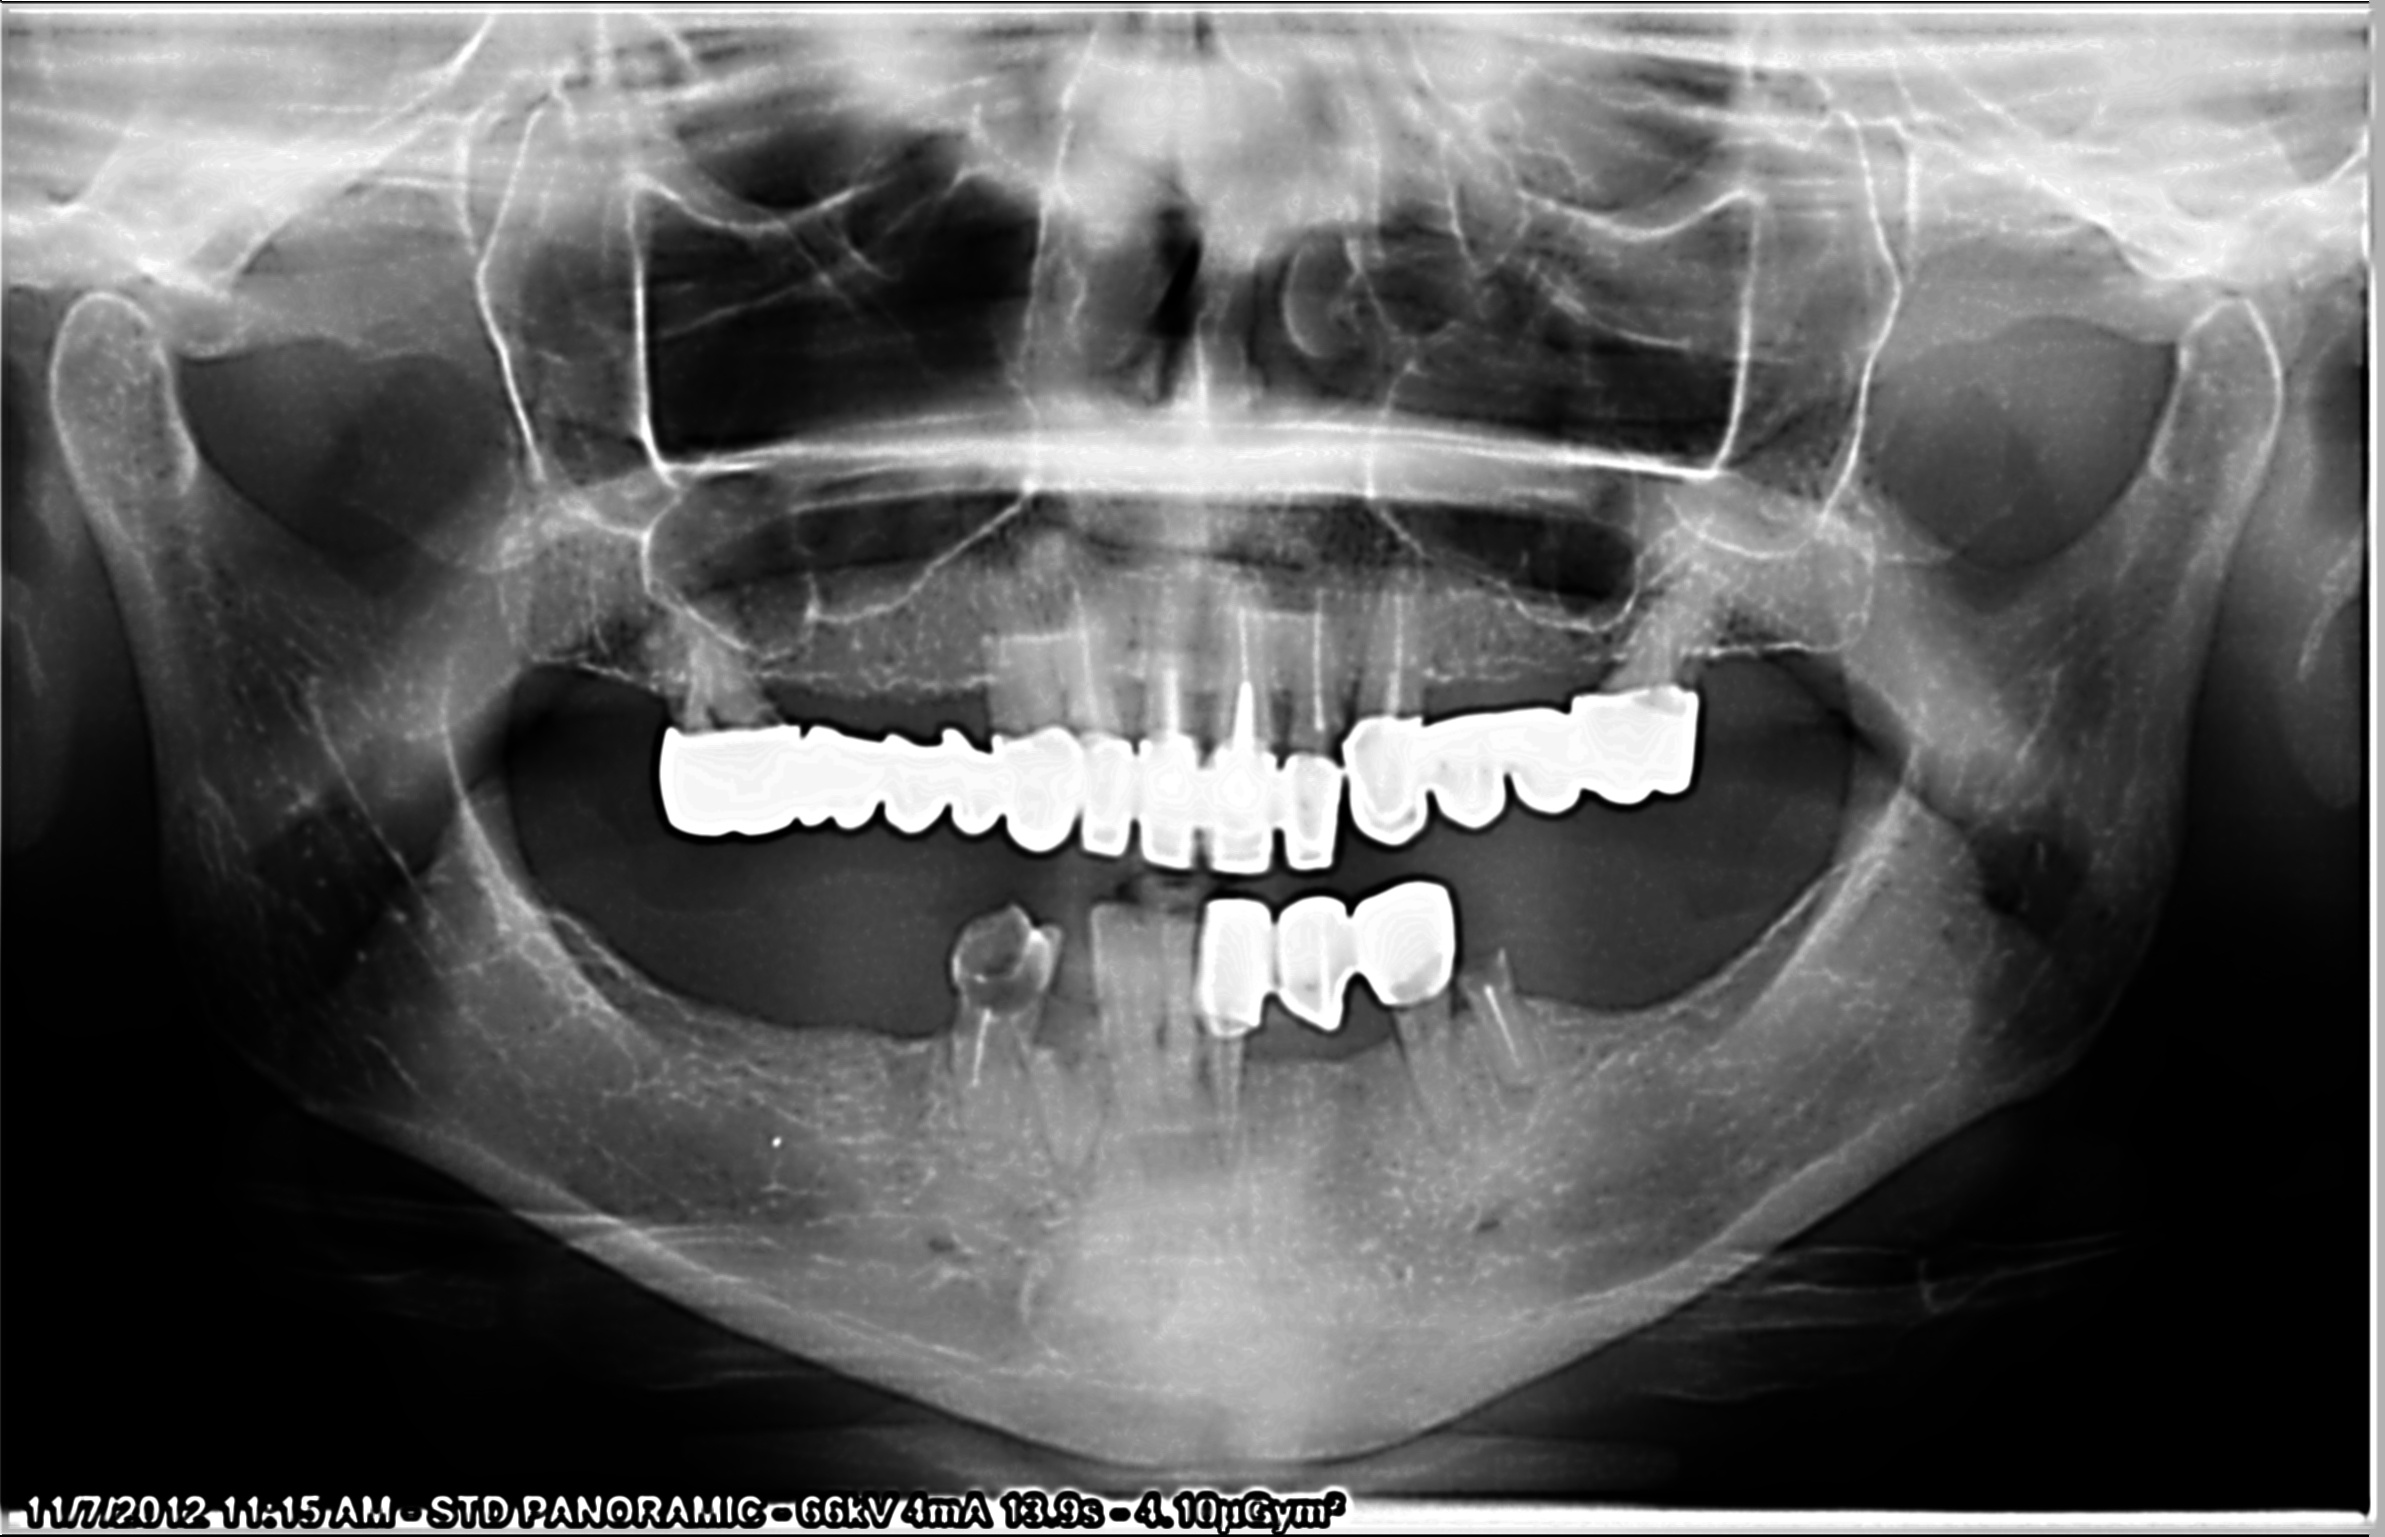API: (1041, 1142, 1119, 1203), (1488, 1059, 1552, 1125)
CAR: (946, 911, 1043, 1021)
END: (1046, 565, 1109, 727), (1215, 549, 1267, 739), (1368, 556, 1422, 715), (1299, 569, 1342, 746), (947, 993, 1006, 1121), (1146, 562, 1187, 737), (1483, 961, 1528, 1075)
OBT: (650, 715, 1337, 887), (1339, 689, 1700, 842), (1189, 878, 1460, 1029)
ROT: (1010, 1007, 1113, 1167), (1458, 935, 1535, 1080)
